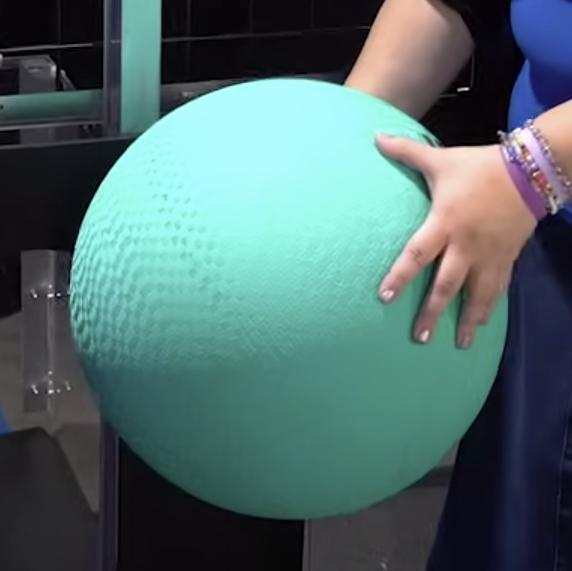algae: (71, 79, 508, 519)
